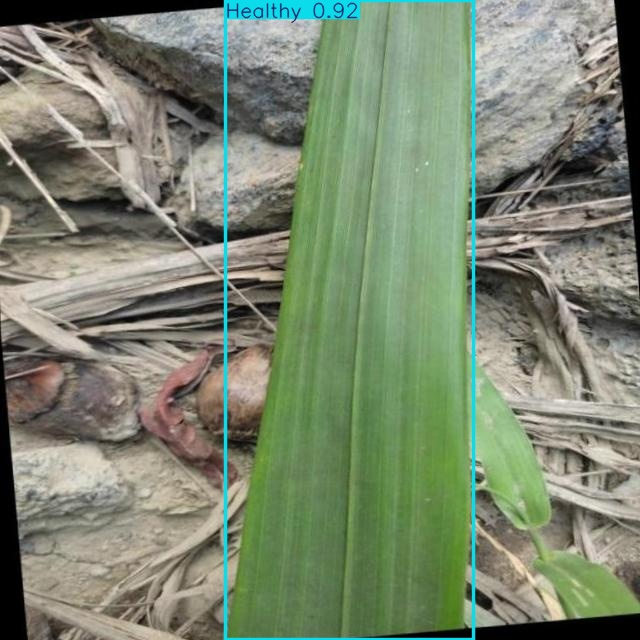Healthy: (225, 0, 473, 640)
